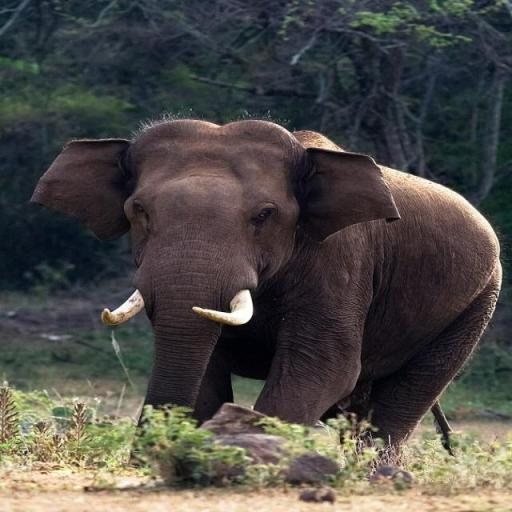Elephant: (29, 111, 503, 482)
